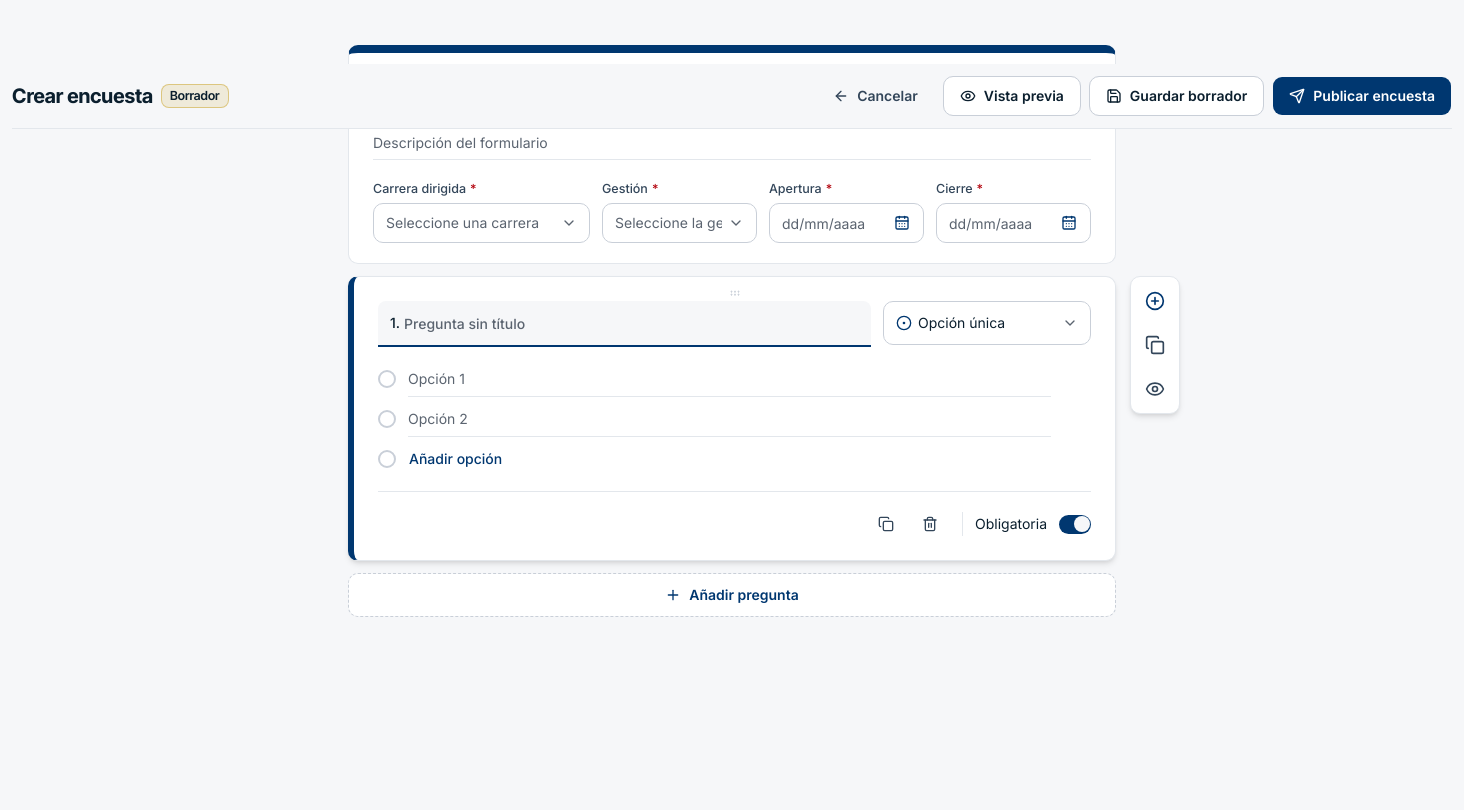
it: CreateSurveyView › CA5: duplica, elimina y reordena con teclado actualizando la numeración
Type "Primera" into the field named "Enunciado de la pregunta 1".
click(632, 323); type("Primera")  # box [404,301,859,345]
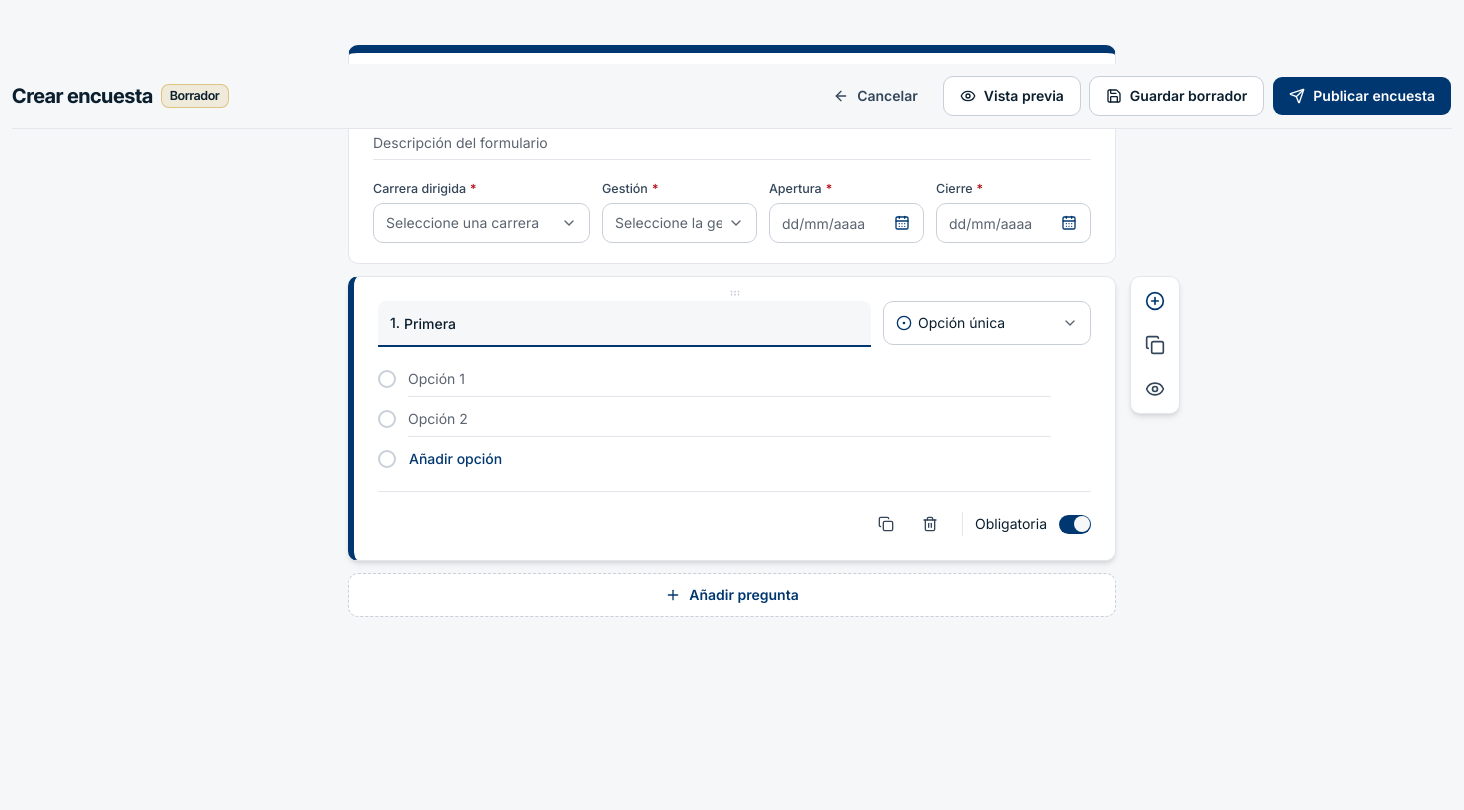
Click the button named "Duplicar pregunta" next to "Obligatoria".
click(886, 524)  # box [866,504,906,544]
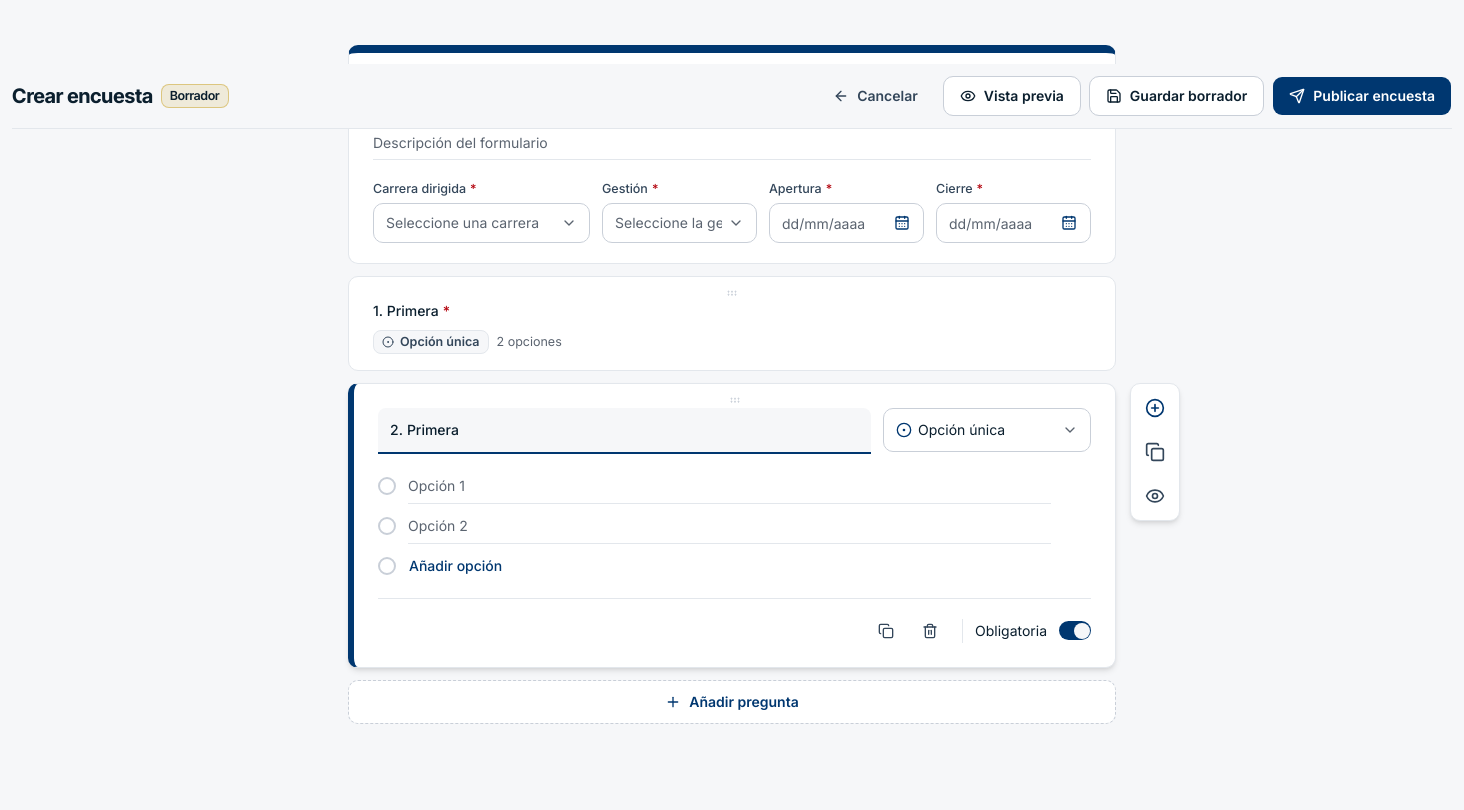
Expected: the field named "Enunciado de la pregunta 2" holds "Primera"
Replace the text in the field named "Enunciado de la pregunta 2" with "Segunda" at [633, 430], box [407,408,859,452]
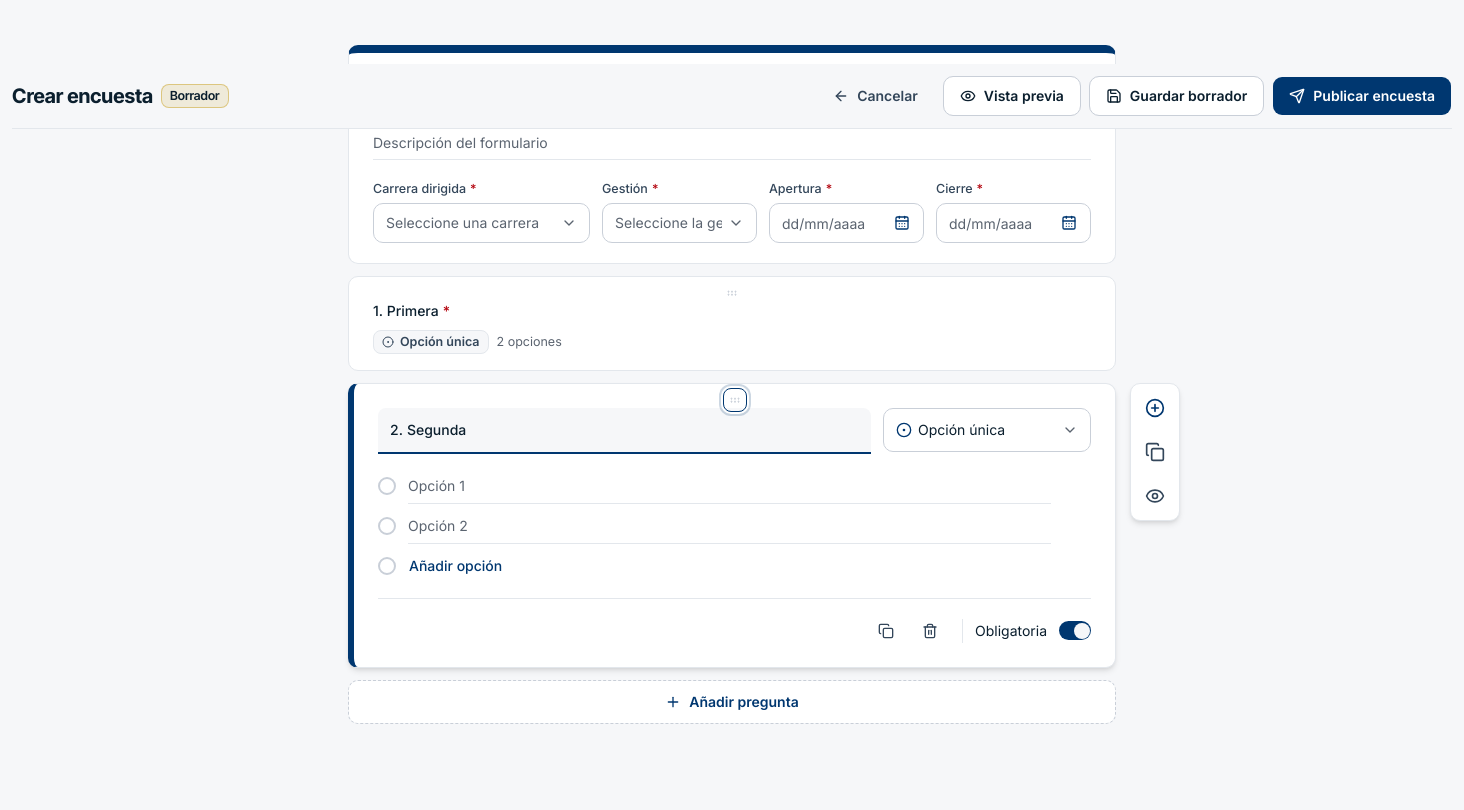
Press Arrowup
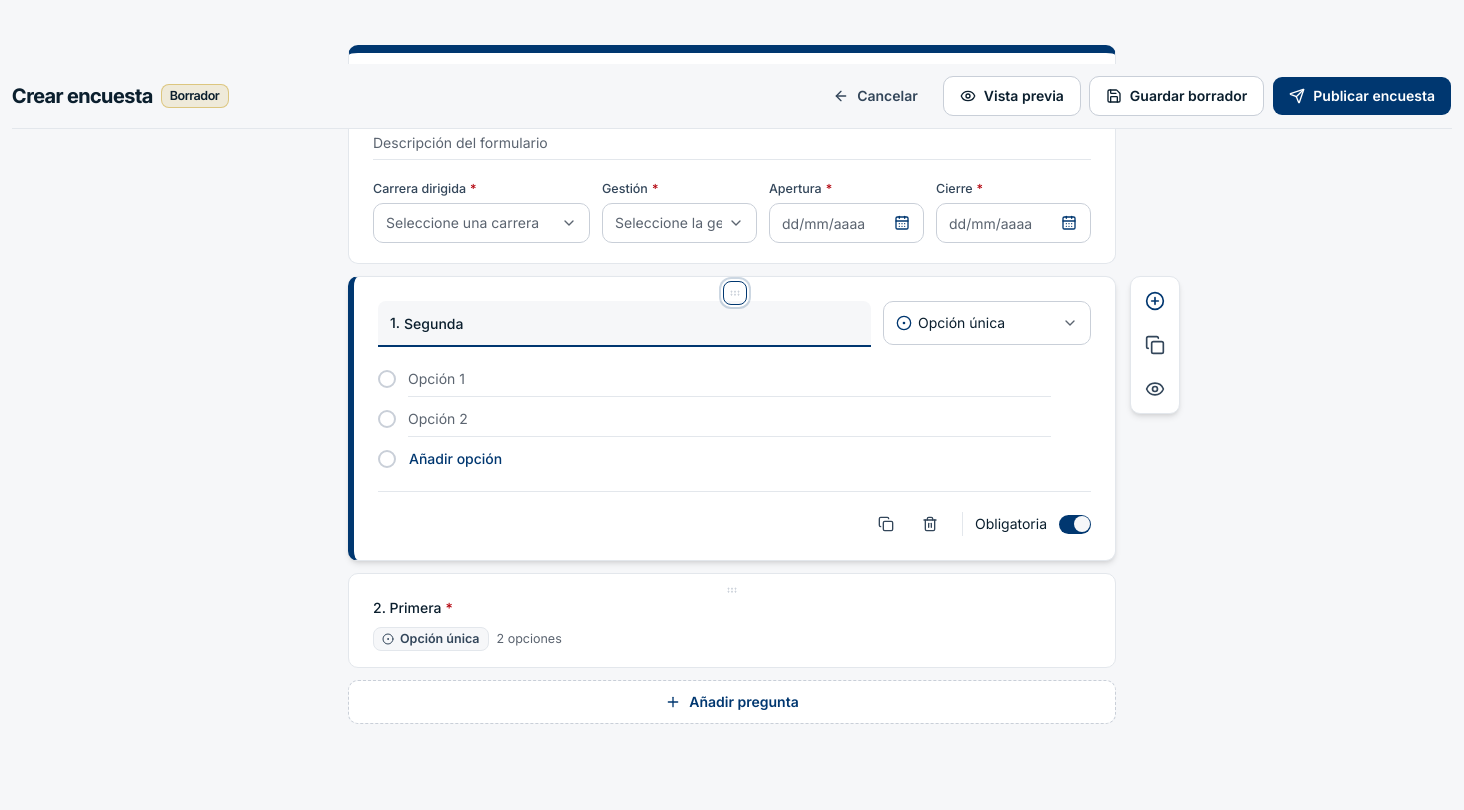
Expected: the button with aria-label "Editar pregunta 2" shows "Primera", [373,599,562,651]
Click the button named "Eliminar pregunta".
click(930, 524)  # box [910,504,950,544]
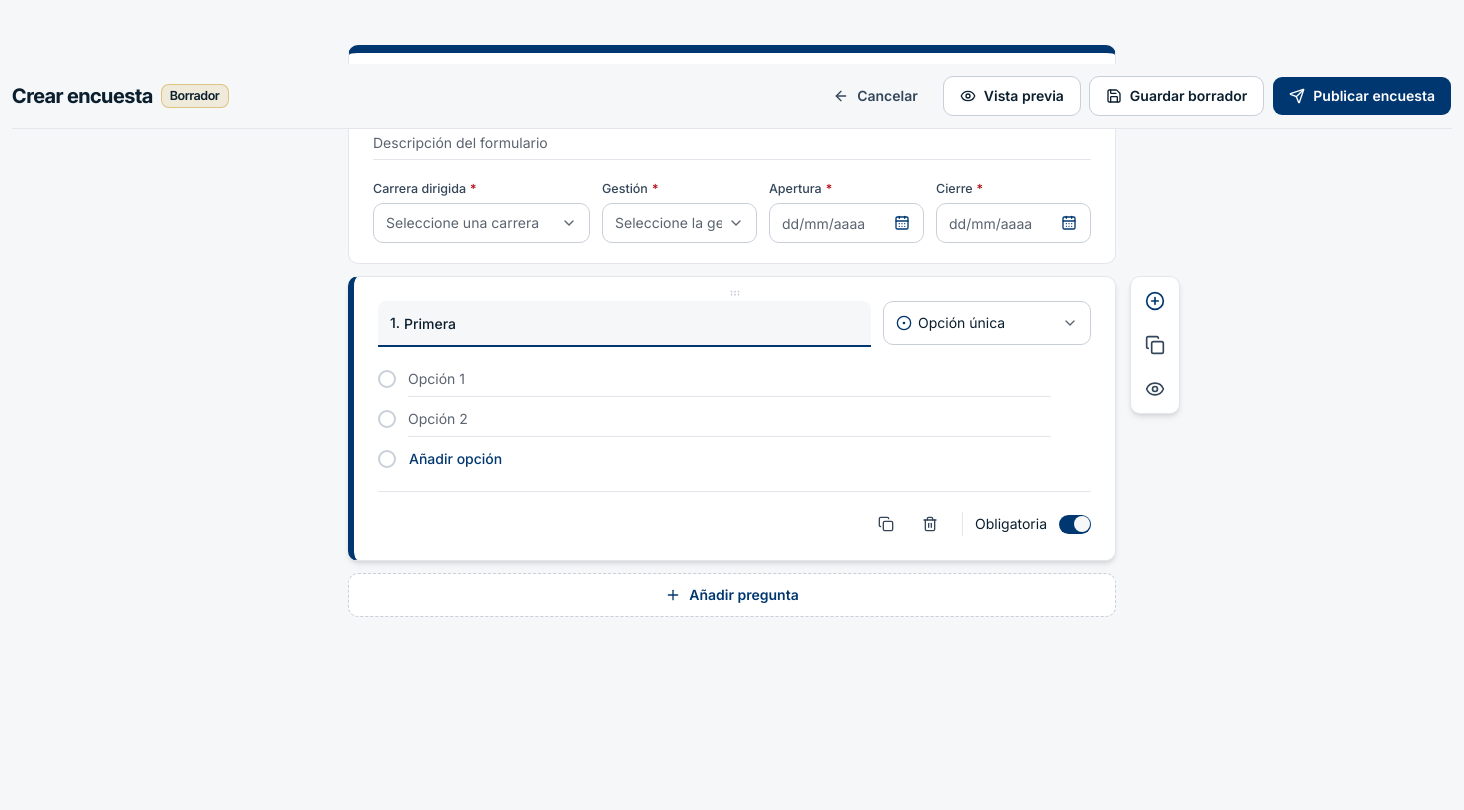
Expected: the field labelled "Enunciado de la pregunta 2" is not shown
Expected: the field named "Enunciado de la pregunta 1" holds "Primera", [404,301,859,345]
